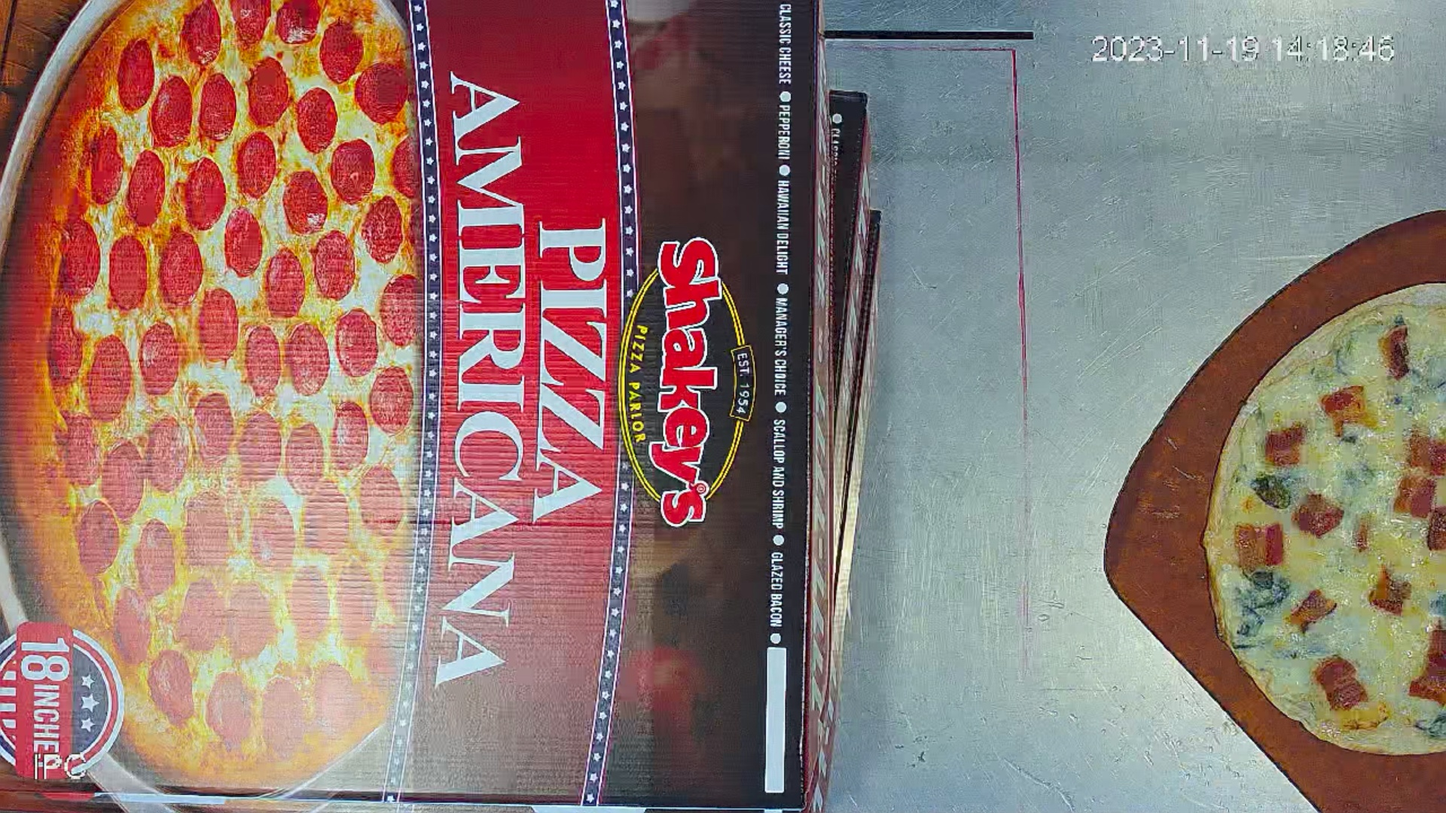pepporoni: (1210, 285, 1446, 751)
